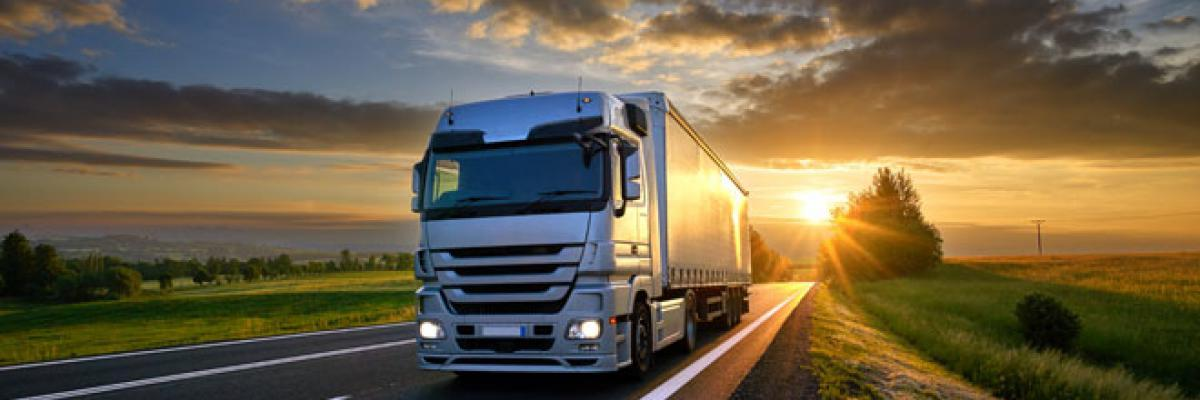truck: (411, 89, 754, 374)
